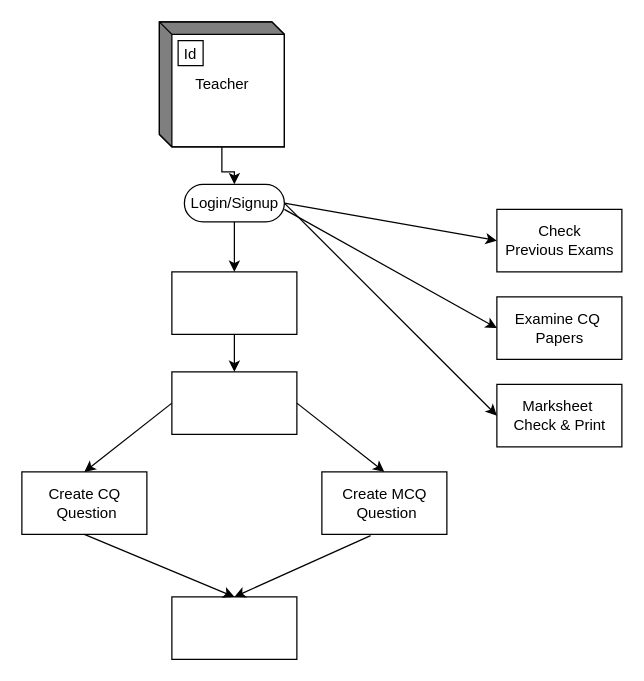
Some shapes in this 644 by 681 pixel diagram are drawn without their labels. The shapes that lost their labels are listed below. From the top down, each one's centre as x and y in pixels, then its label:
At (x=234, y=302): "Create Course".
At (x=234, y=402): "Select Exam Type".
At (x=234, y=627): "Create Exam".
